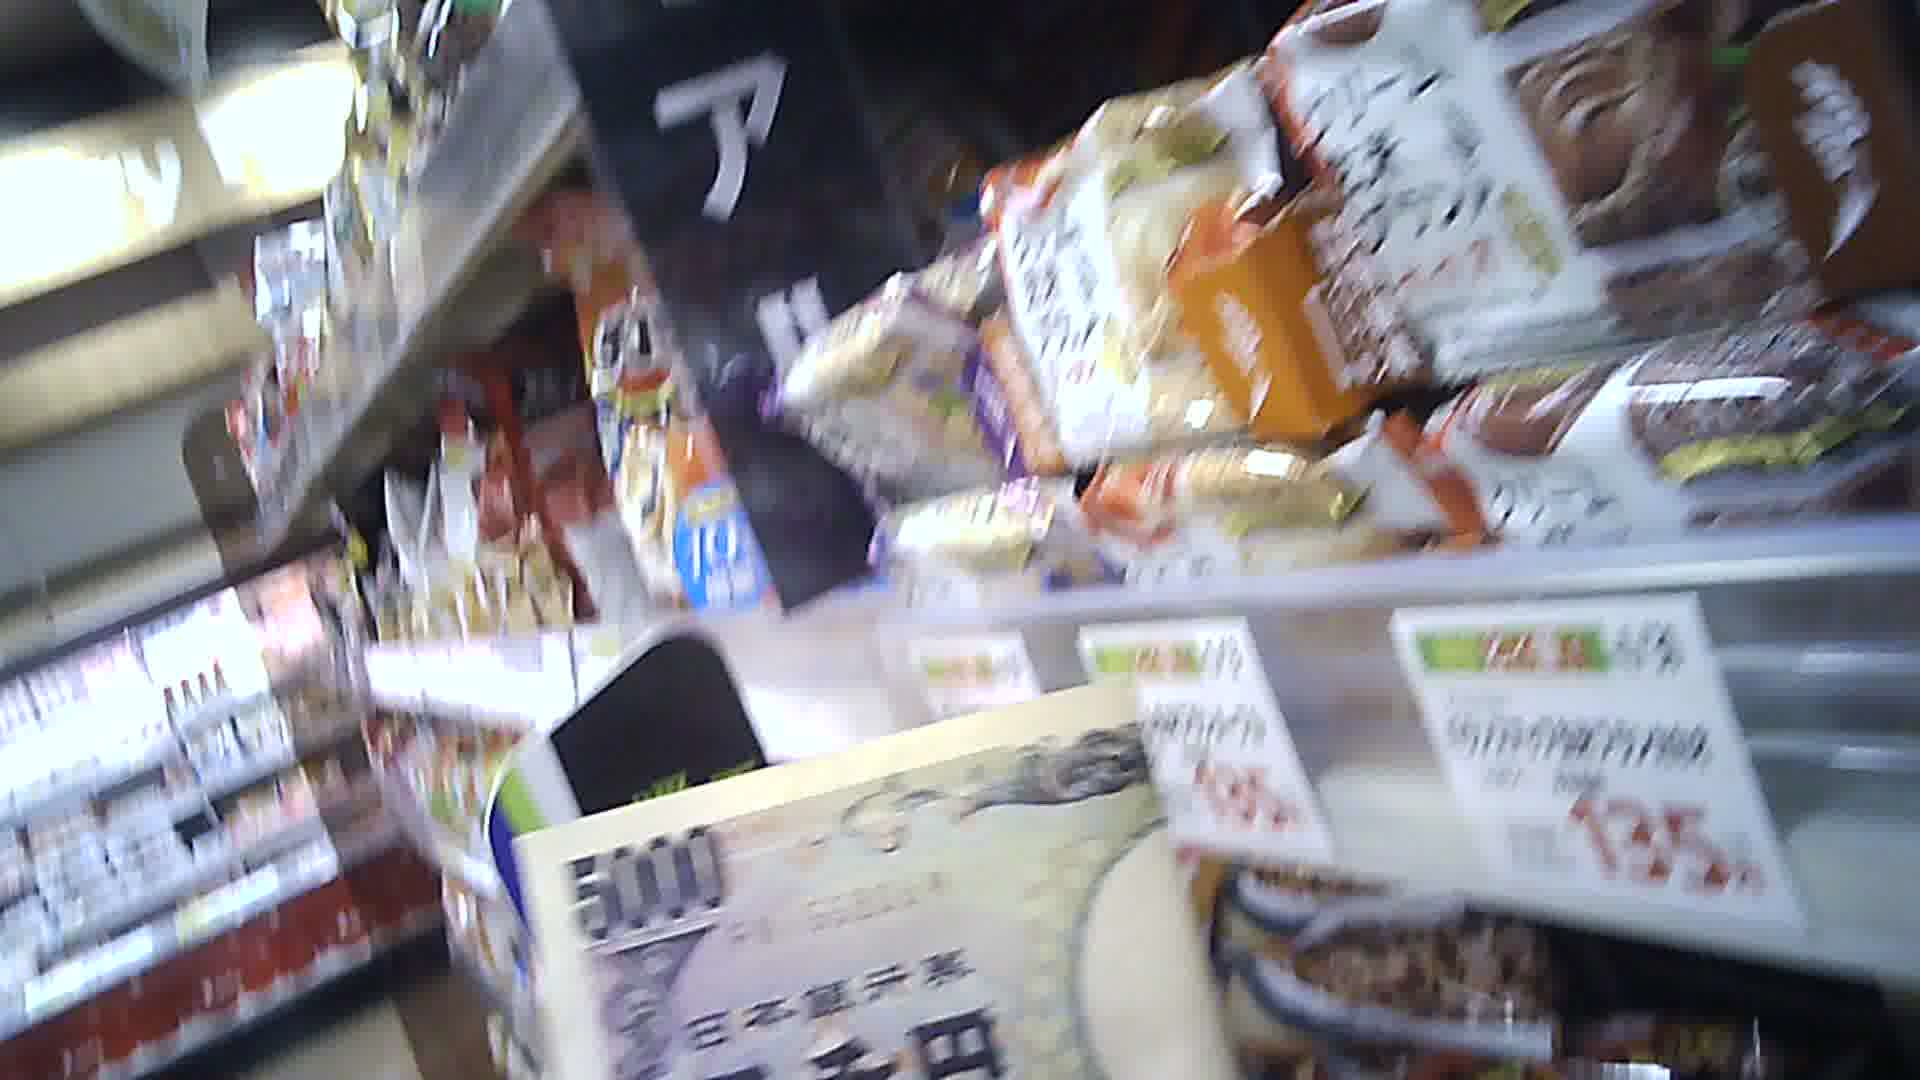5,000 Yen: (510, 699, 1234, 1079)
